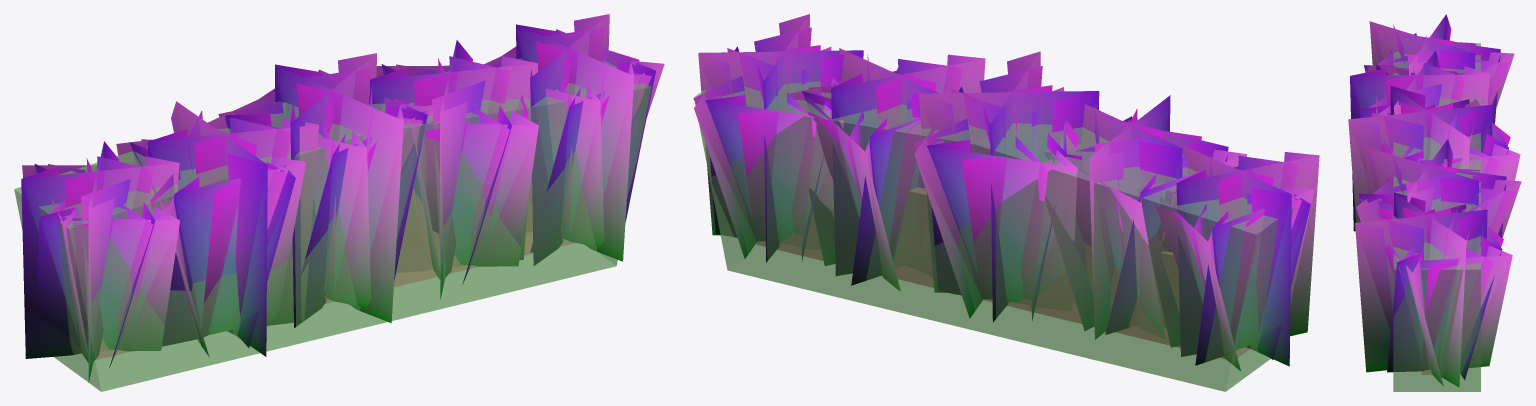
File: tall_plant.dae
The picture shows the model from 3 angles, left to right: view 1: azimuth 30°, elevation 25°; view 2: azimuth 150°, elevation 25°; view 3: azimuth 270°, elevation 25°; orthographic projection. The views are drawn at different scales.
Parts seen in each view (by area): view 1: tall_plant_a700, Colmesh-1, tall_plant_a140; view 2: Colmesh-1, tall_plant_a700, tall_plant_a140; view 3: tall_plant_a700, tall_plant_a140, Colmesh-1.
Part boxes in pixels (x1,y1,x2,y2): tall_plant_a700: (21, 14, 663, 367); Colmesh-1: (14, 60, 651, 391); tall_plant_a140: (21, 14, 664, 382); Colmesh-1: (694, 81, 1294, 391); tall_plant_a700: (693, 14, 1319, 370); tall_plant_a140: (694, 14, 1319, 366); tall_plant_a700: (1348, 14, 1521, 387); tall_plant_a140: (1348, 14, 1521, 379); Colmesh-1: (1393, 43, 1480, 391).
Size of the model in its own units: 7.74 by 2.34 by 2.66.
